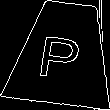P_N: (38, 26, 88, 81)
